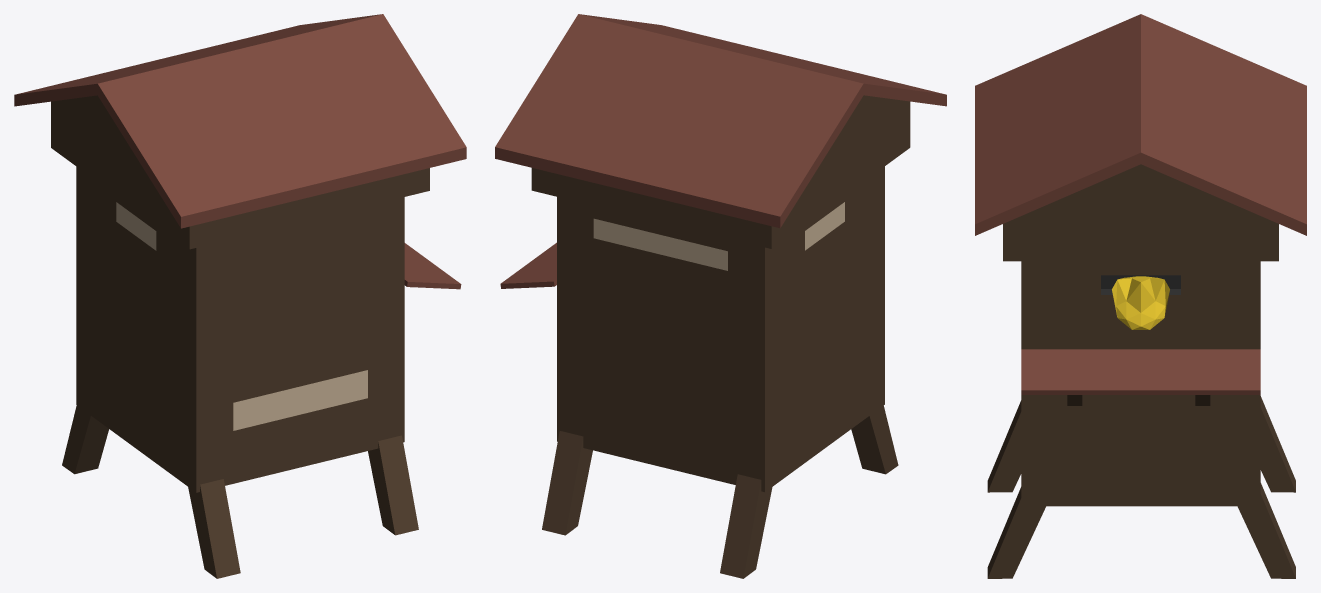
File: ruche2.fbx
3 views of the same model, side by side, from view 1: azimuth 30°, elevation 25°; view 2: azimuth 150°, elevation 25°; view 3: azimuth 270°, elevation 25° (orthographic).
Parts seen in each view (by area): view 1: bloc principal, toit, bloc sup, pieds, abri; view 2: bloc principal, toit, bloc sup, pieds, abri; view 3: toit, bloc principal, bloc sup, abri, pieds, Icosphere.
Part boxes in pixels (bbox=[...]): bloc principal: bbox=[76, 166, 404, 492]; toit: bbox=[14, 14, 466, 228]; bloc sup: bbox=[51, 95, 429, 249]; pieds: bbox=[62, 405, 418, 578]; abri: bbox=[404, 243, 461, 289]; bloc principal: bbox=[557, 166, 884, 492]; toit: bbox=[495, 14, 946, 228]; bloc sup: bbox=[531, 95, 910, 248]; pieds: bbox=[542, 405, 898, 578]; abri: bbox=[500, 242, 556, 288]; toit: bbox=[975, 14, 1306, 235]; bloc principal: bbox=[1021, 261, 1260, 506]; bloc sup: bbox=[1003, 164, 1278, 261]; abri: bbox=[1021, 349, 1260, 405]; pieds: bbox=[987, 396, 1295, 578]; Icosphere: bbox=[1112, 276, 1169, 329].
Size of the model in its own units: 291 by 412 by 277.
